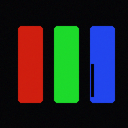4 line_v: (91, 64, 93, 96)
